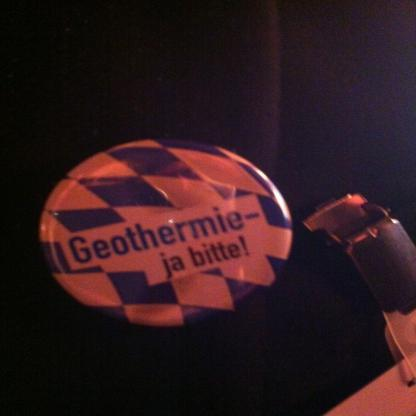Ball: (41, 139, 291, 327)
